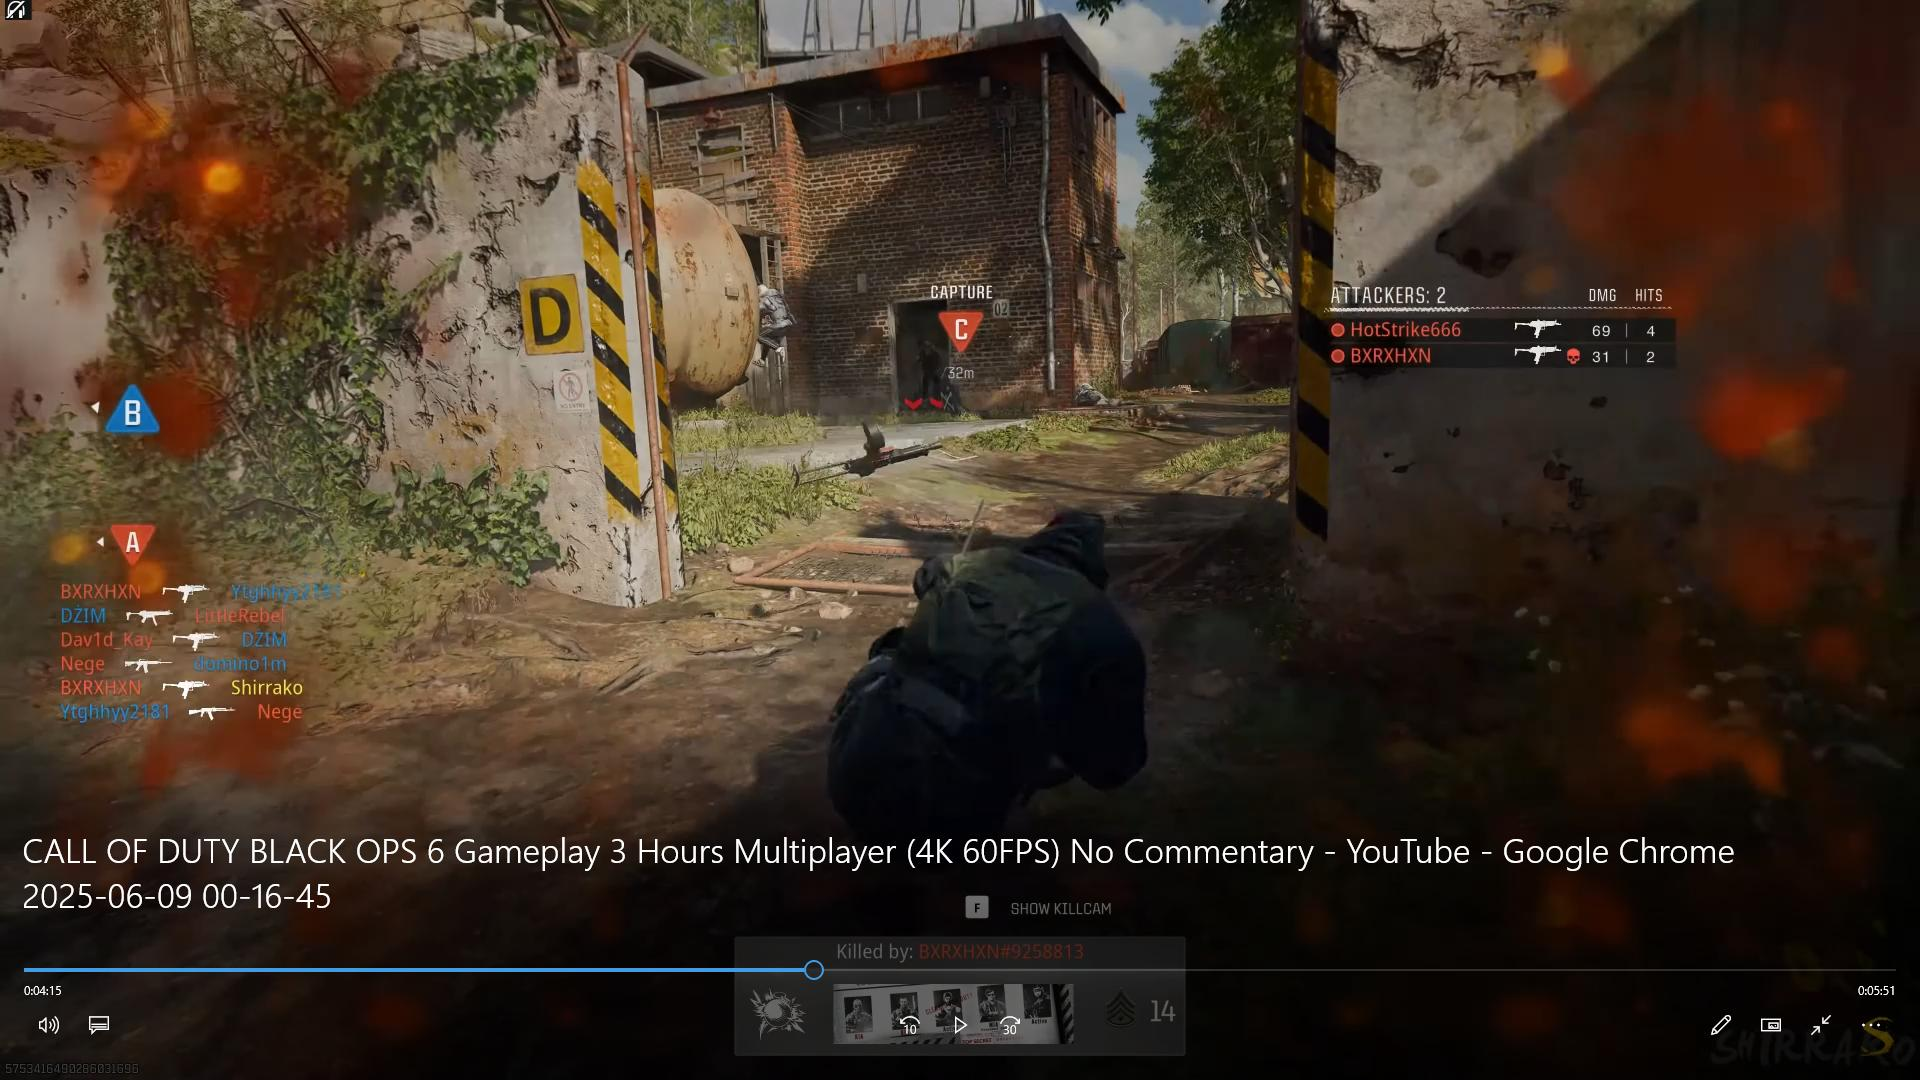Enemy: (754, 276, 793, 359), (910, 335, 953, 405)
